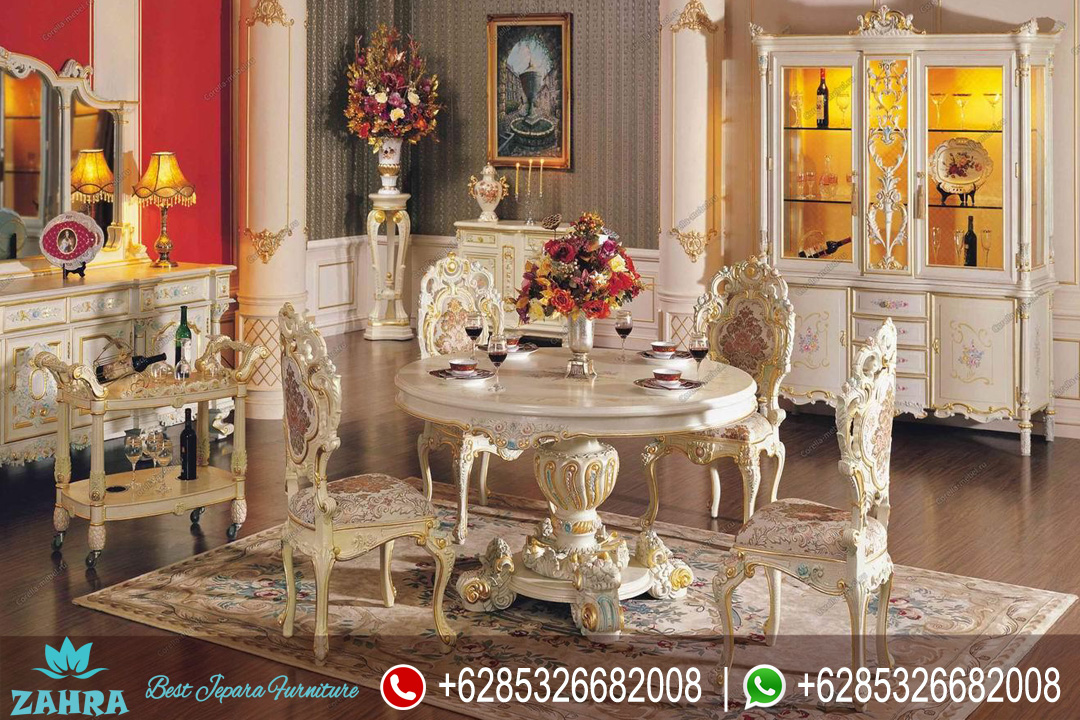Carving Chair: (255, 296, 463, 658), (732, 333, 938, 661)
Carving Table: (386, 344, 755, 639)
